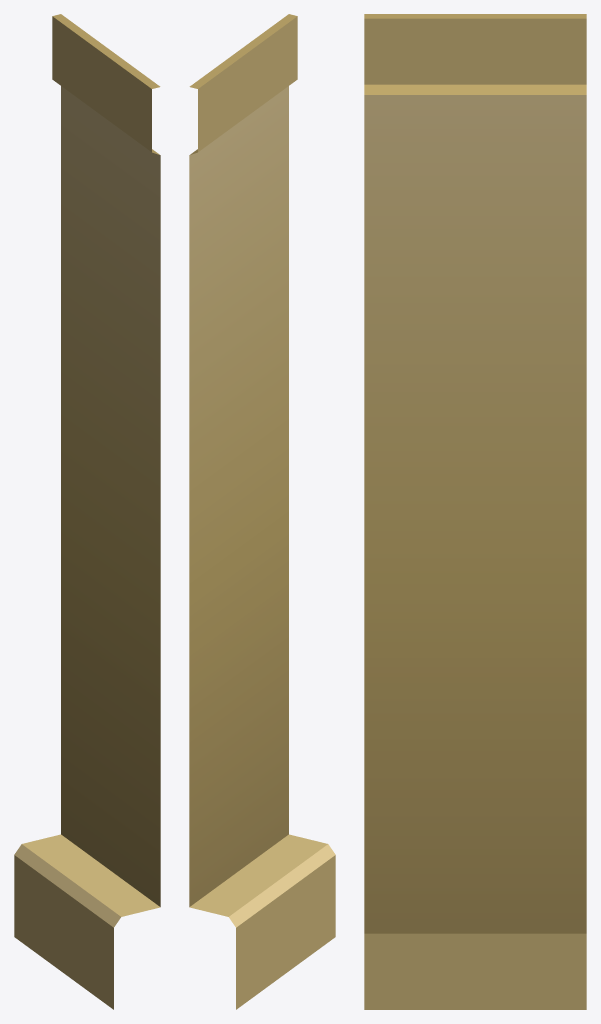
File: Walls_B.fbx
3 renders of one model, left to right at view 1: azimuth 30°, elevation 25°; view 2: azimuth 150°, elevation 25°; view 3: azimuth 270°, elevation 25°, orthographic. The views are drawn at different scales.
Parts seen in each view (by area): view 1: OB_Wall_Window_B; view 2: OB_Wall_Window_B; view 3: OB_Wall_Window_B.
Boxes of the visible parts, x1=… form: OB_Wall_Window_B: x1=14, y1=14, x2=160, y2=1009; OB_Wall_Window_B: x1=189, y1=14, x2=335, y2=1009; OB_Wall_Window_B: x1=364, y1=14, x2=586, y2=1009.
Bounding box in the file's own units: 32.16 × 598 × 119.
